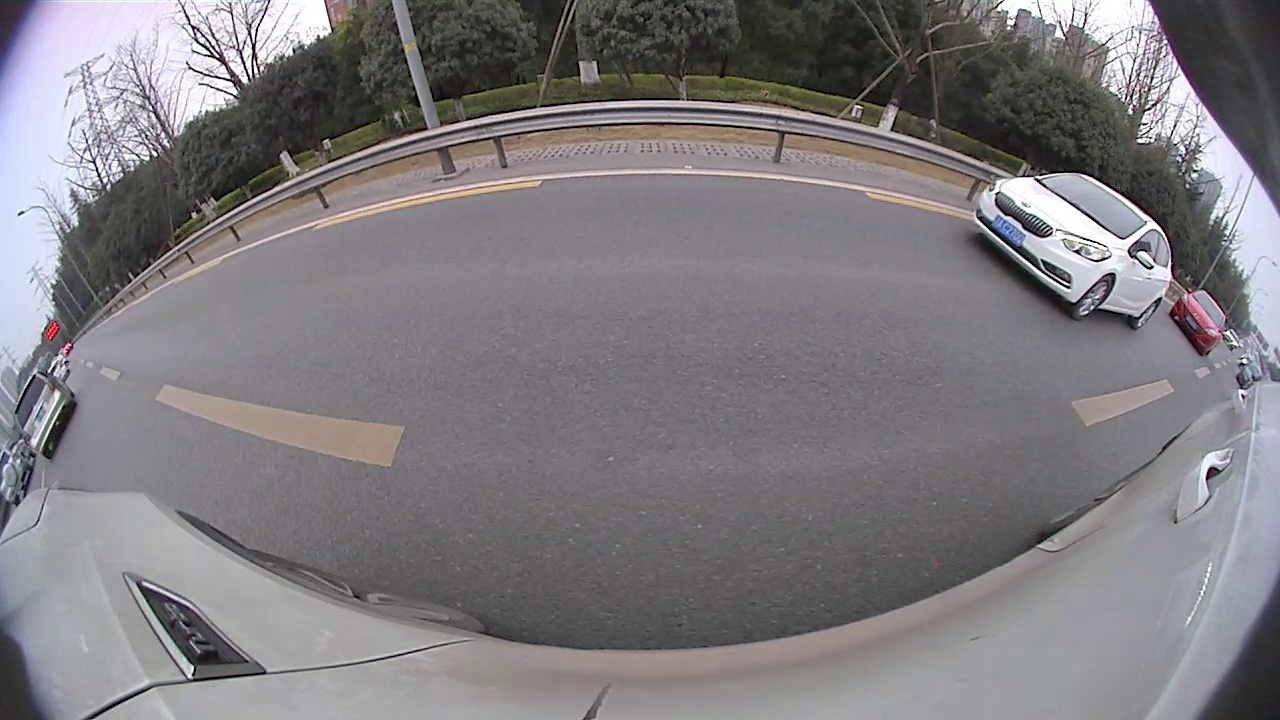car: (159, 203, 353, 318), (1, 353, 128, 492), (567, 136, 642, 206), (534, 161, 568, 194), (642, 150, 671, 185), (529, 169, 540, 188)
front: (324, 227, 348, 258)
rear: (216, 268, 253, 308)
